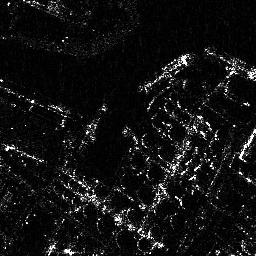ship: (137, 52, 198, 92), (204, 42, 256, 81)
